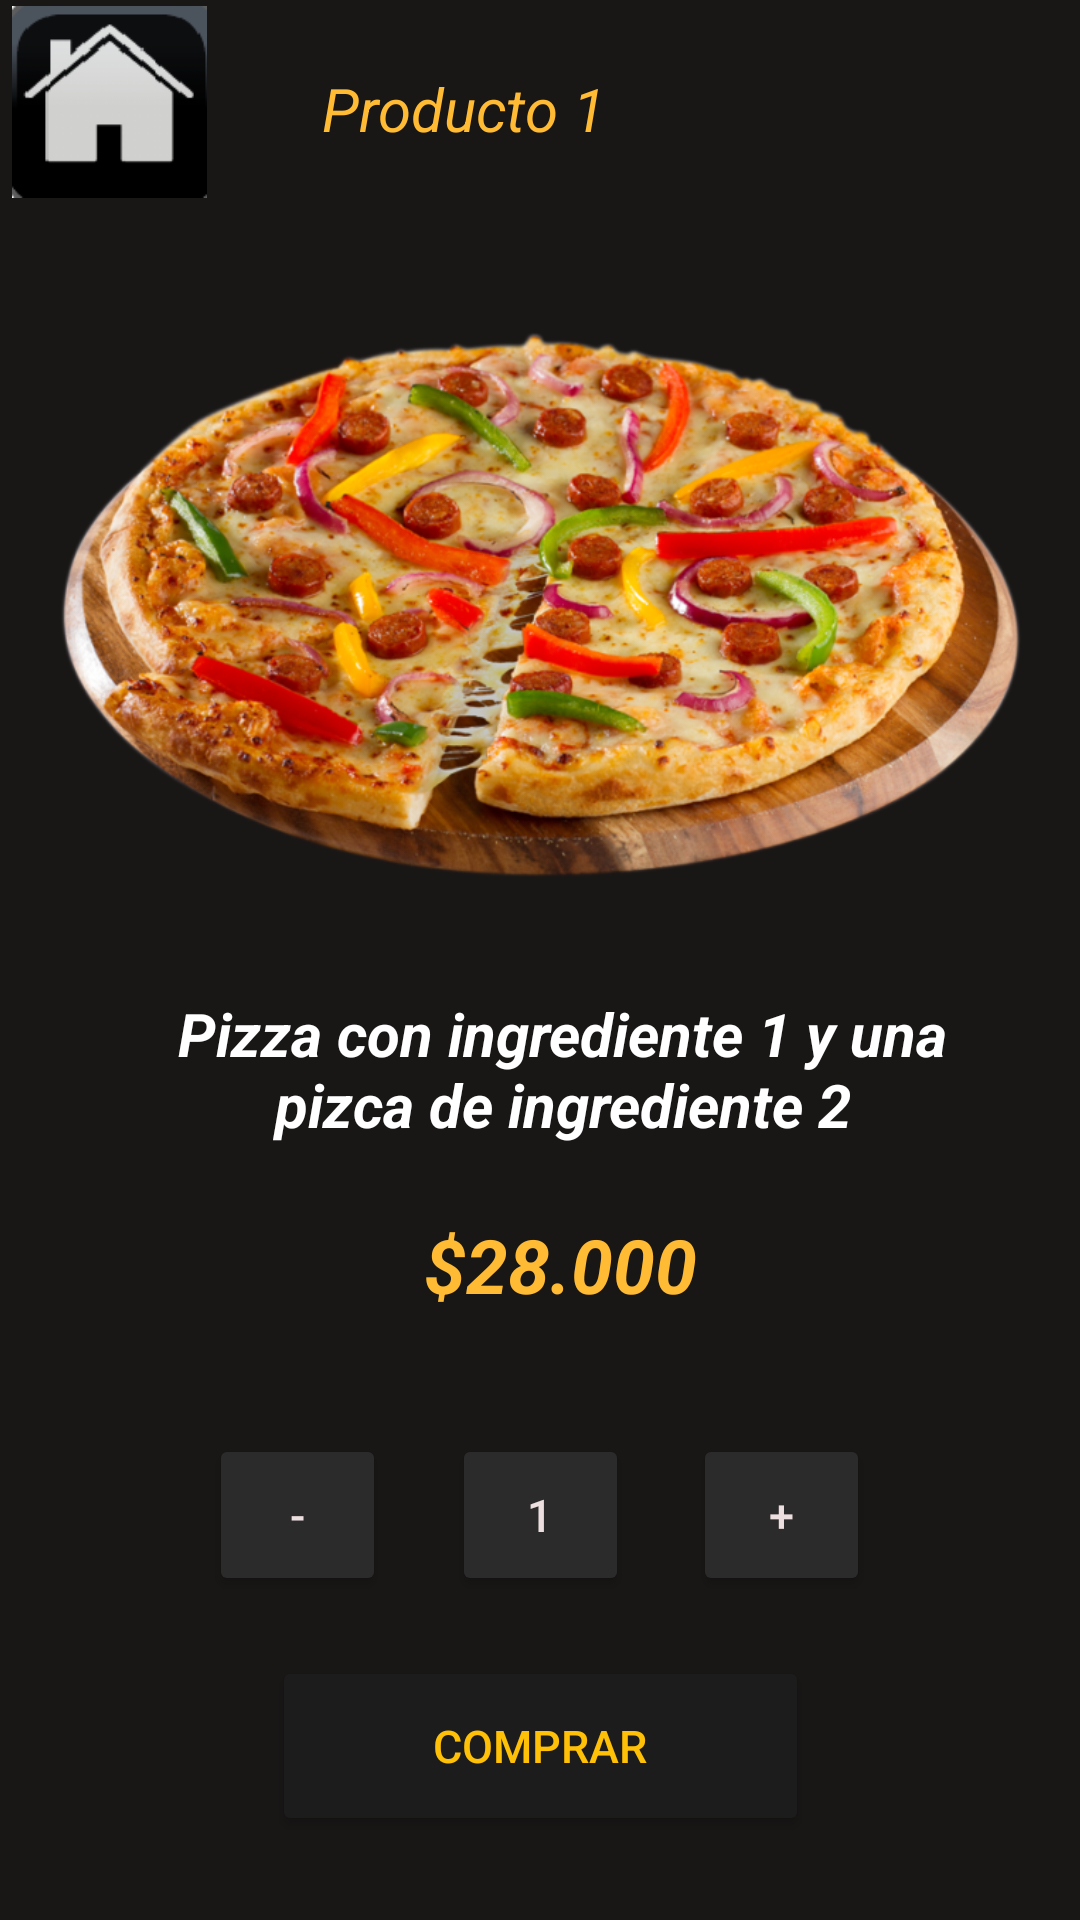

Locate icon controls on the screen. Image size 1080px x 1920px, boxes as (x1, y1, x2, y2).
inicio: (12, 6, 207, 198)
